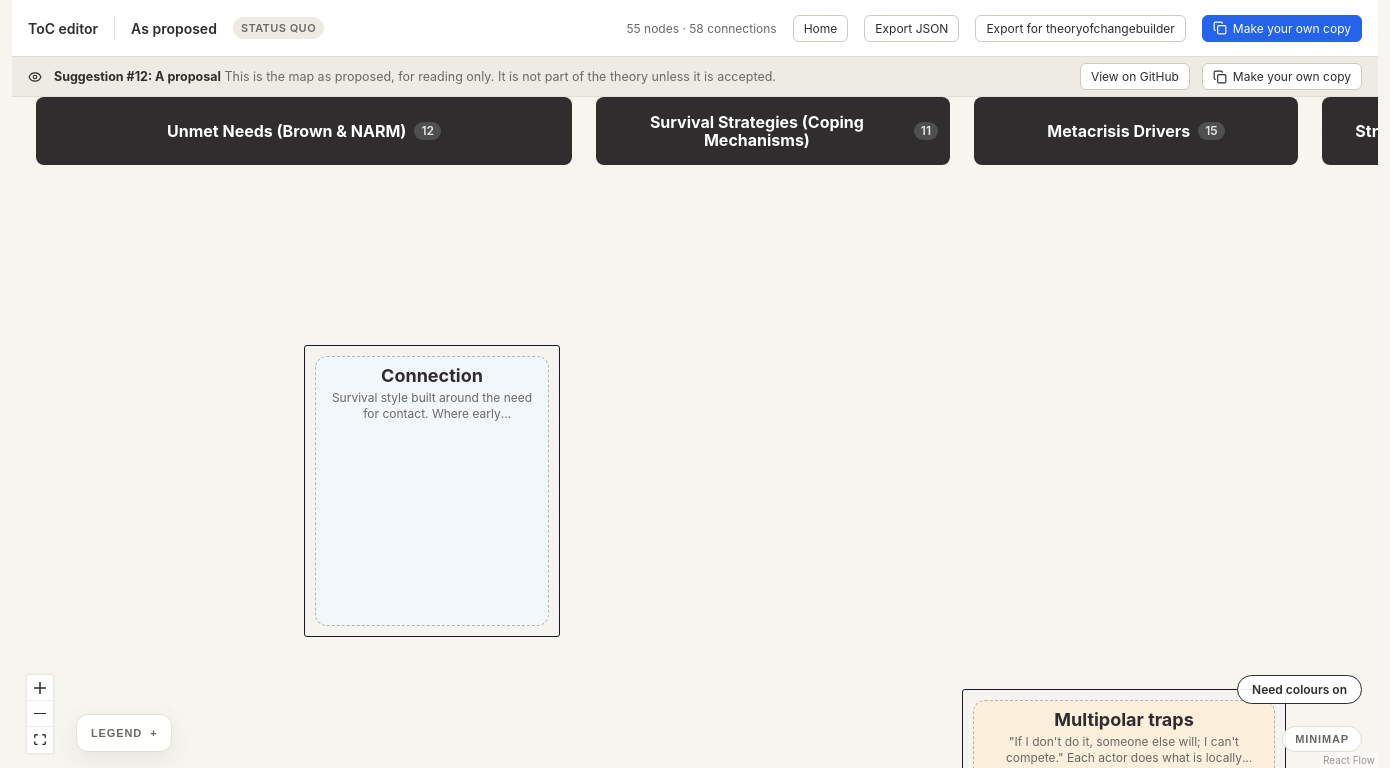
App: a ?suggestion= address › opens the proposed map read-only, and Home clears the address so a reload cannot reopen it
The image size is (1390, 768).
Click the button "Home".
click(820, 28)  # box 793,14 -> 848,42
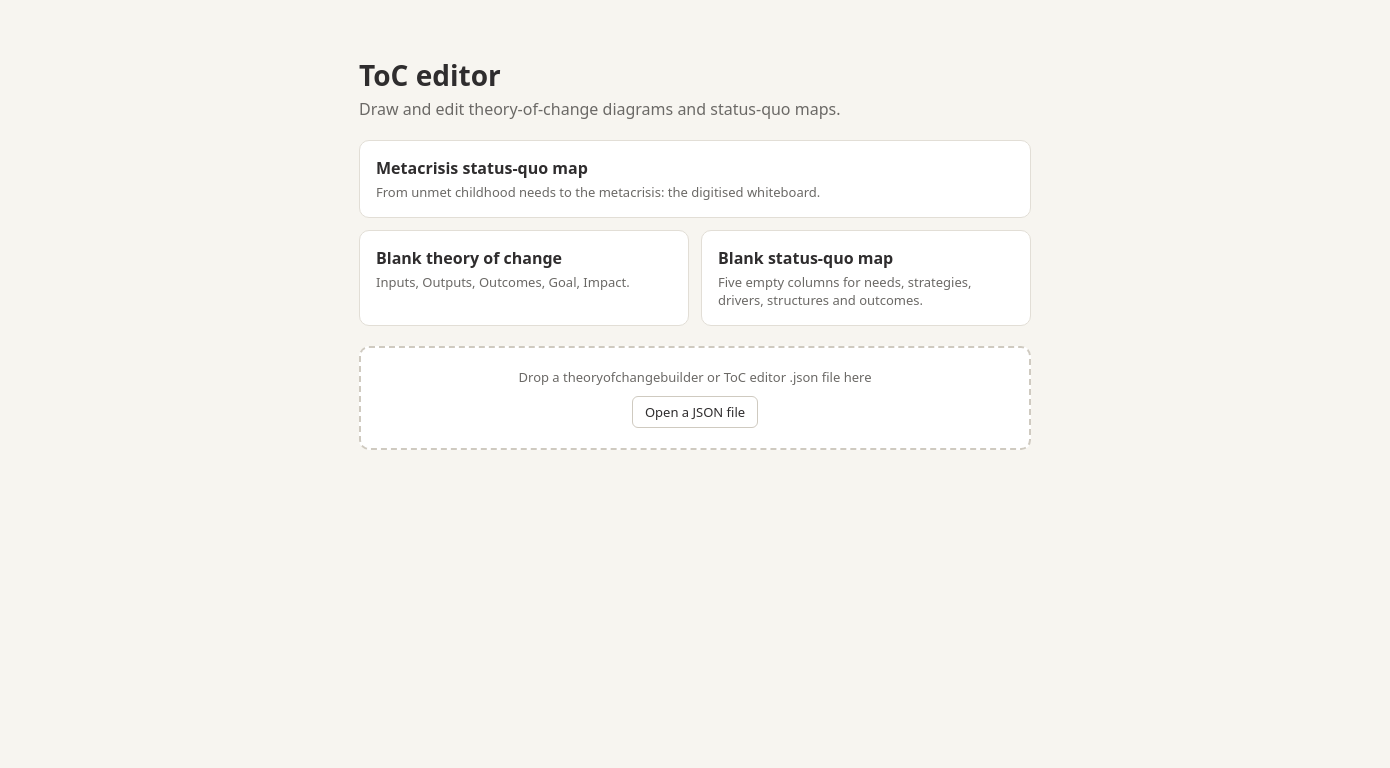
Expected: the button "Blank theory of change" is shown, 359,230 -> 689,326
